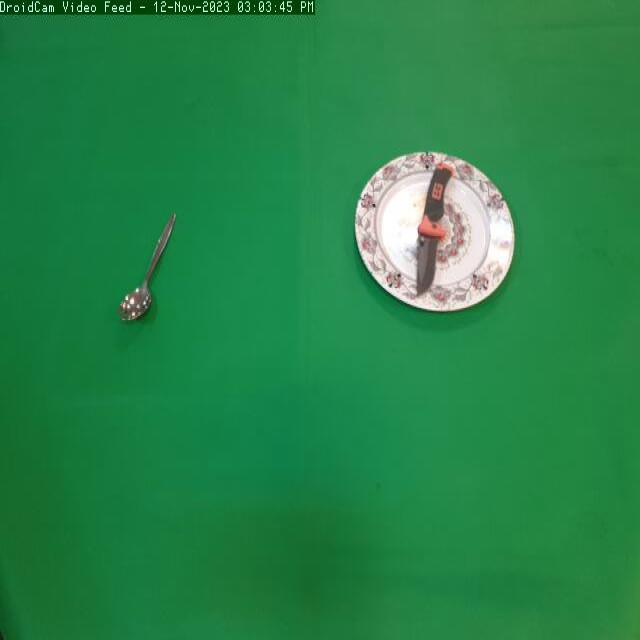knife: (406, 154, 460, 296)
plate: (351, 142, 524, 325)
spoon: (108, 198, 185, 332)
